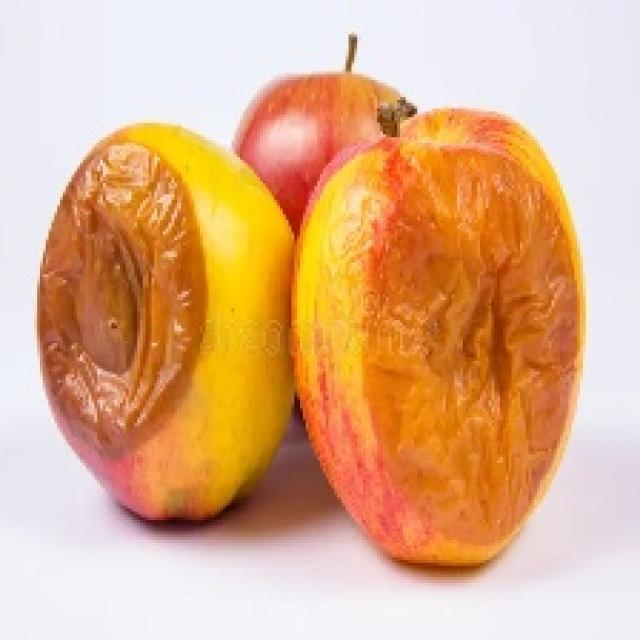apple: (294, 109, 584, 564), (37, 123, 293, 519), (233, 73, 398, 234)
